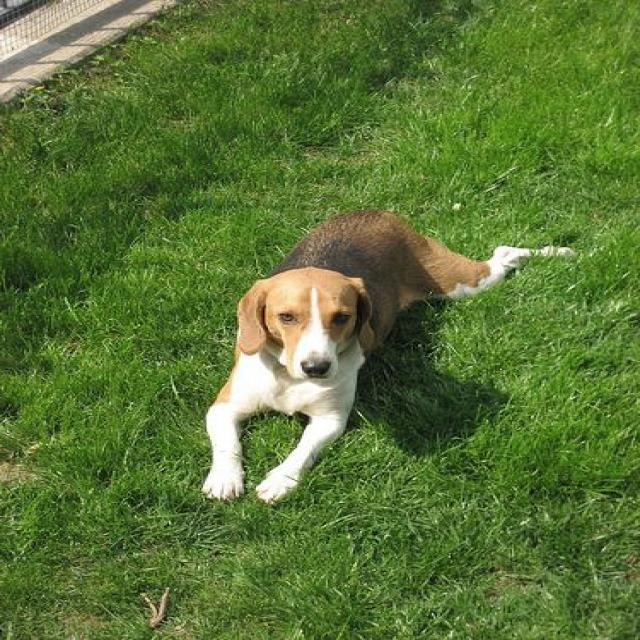beagle: (200, 207, 578, 508)
